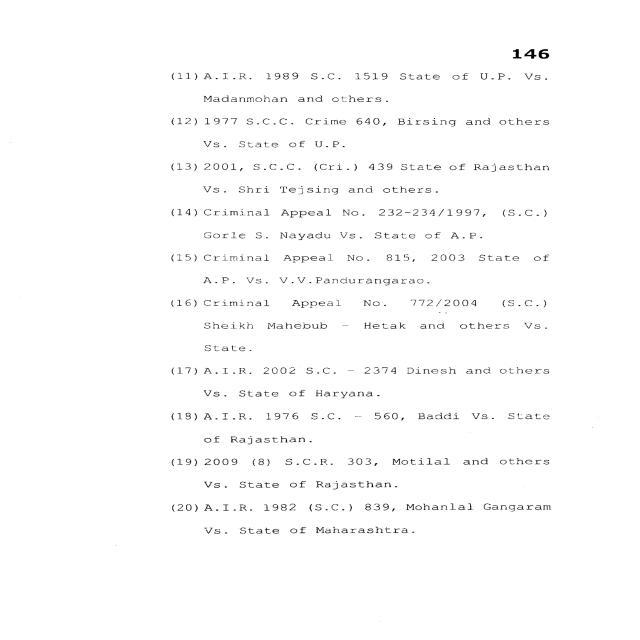page-number: (430, 1, 635, 64)
